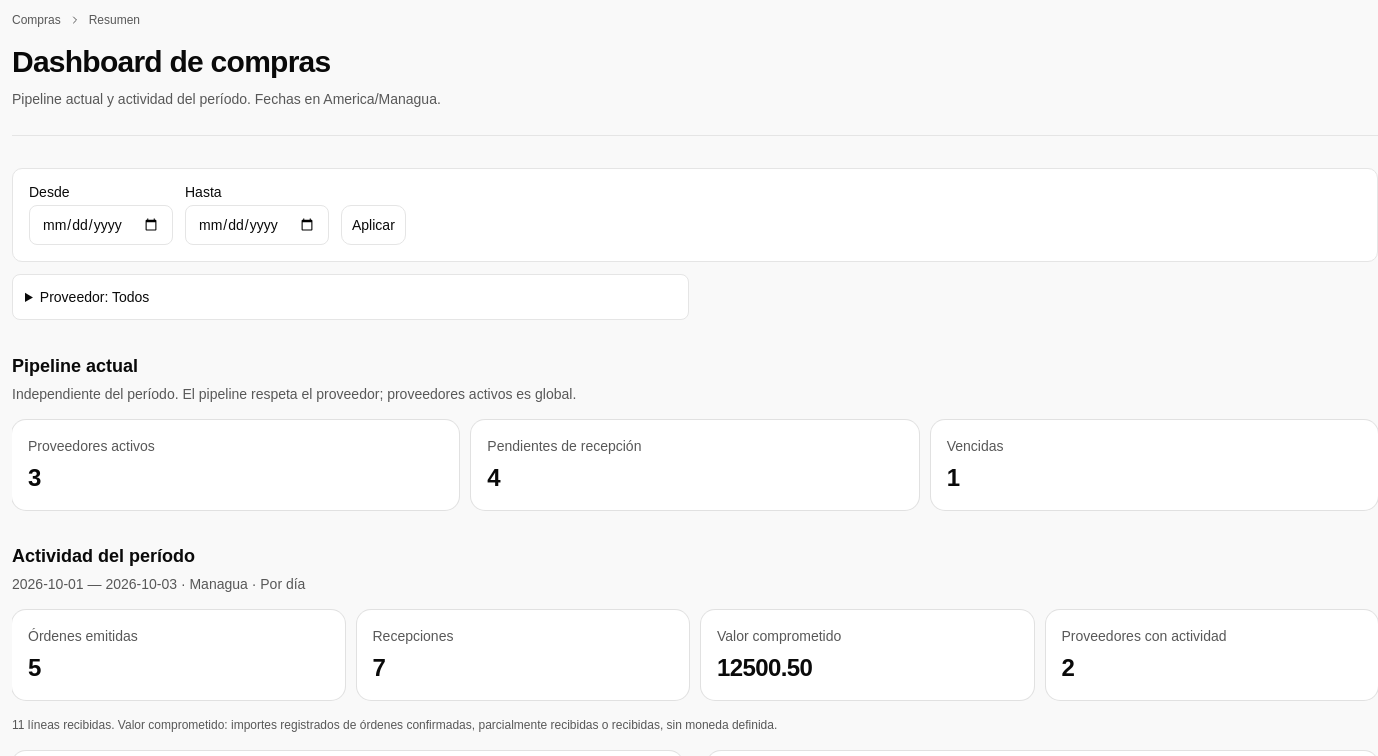
PurchasesDashboardPage › selects an inactive supplier for history and clears back to all suppliers
Expected: the text "Órdenes emitidas" is shown, [28, 628, 138, 644]
What coordinates should you click on to do the following:
click the heading "Proveedor: Todos"
I would click on:
 (95, 297)
Its box is [40, 289, 149, 305].
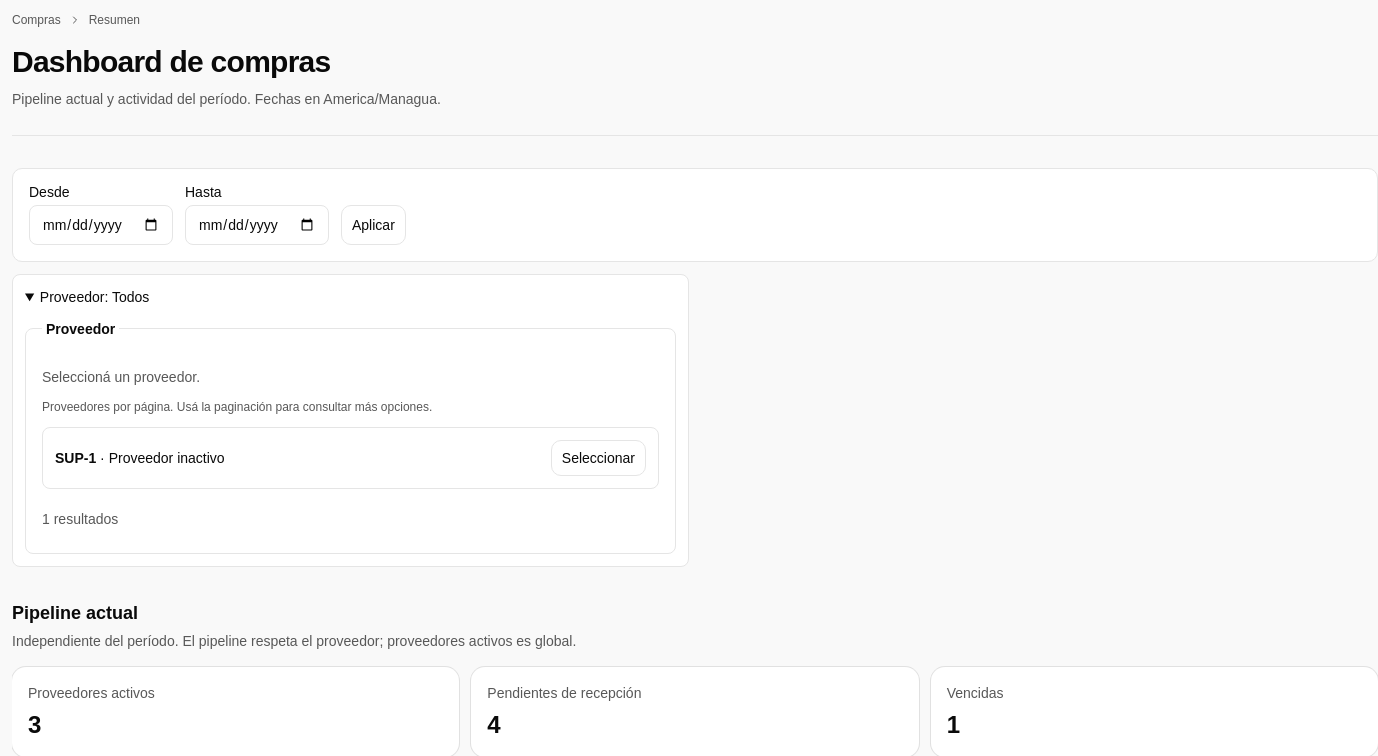
What coordinates should you click on to do the following:
click the button with aria-label "SUP-1 · Proveedor inactivo"
I would click on:
 (598, 458)
Its box is [551, 440, 646, 476].
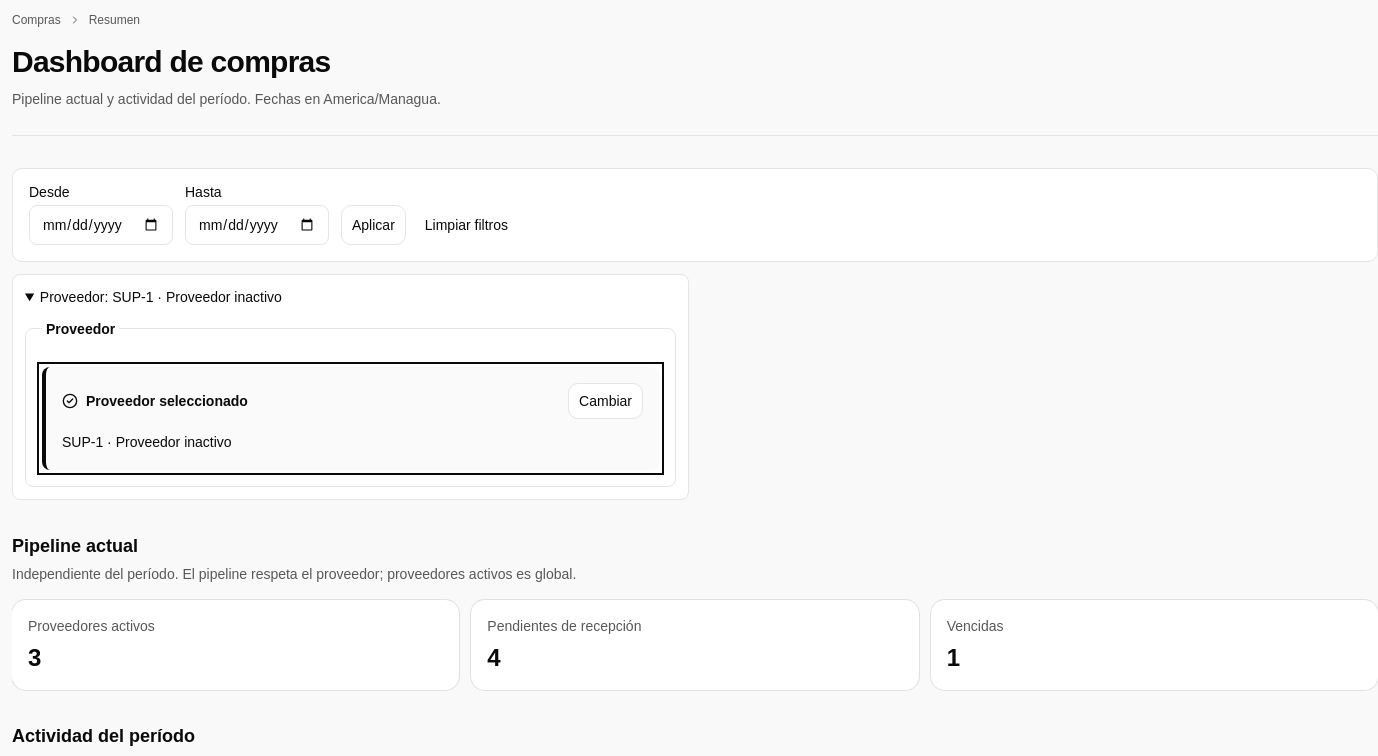
Result: the heading "Proveedor: SUP-1 · Proveedor inactivo" is shown at [40, 289, 282, 305]
What coordinates should you click on to do the following:
click the button "Limpiar filtros"
I would click on:
 (466, 225)
Its box is [414, 205, 519, 245].
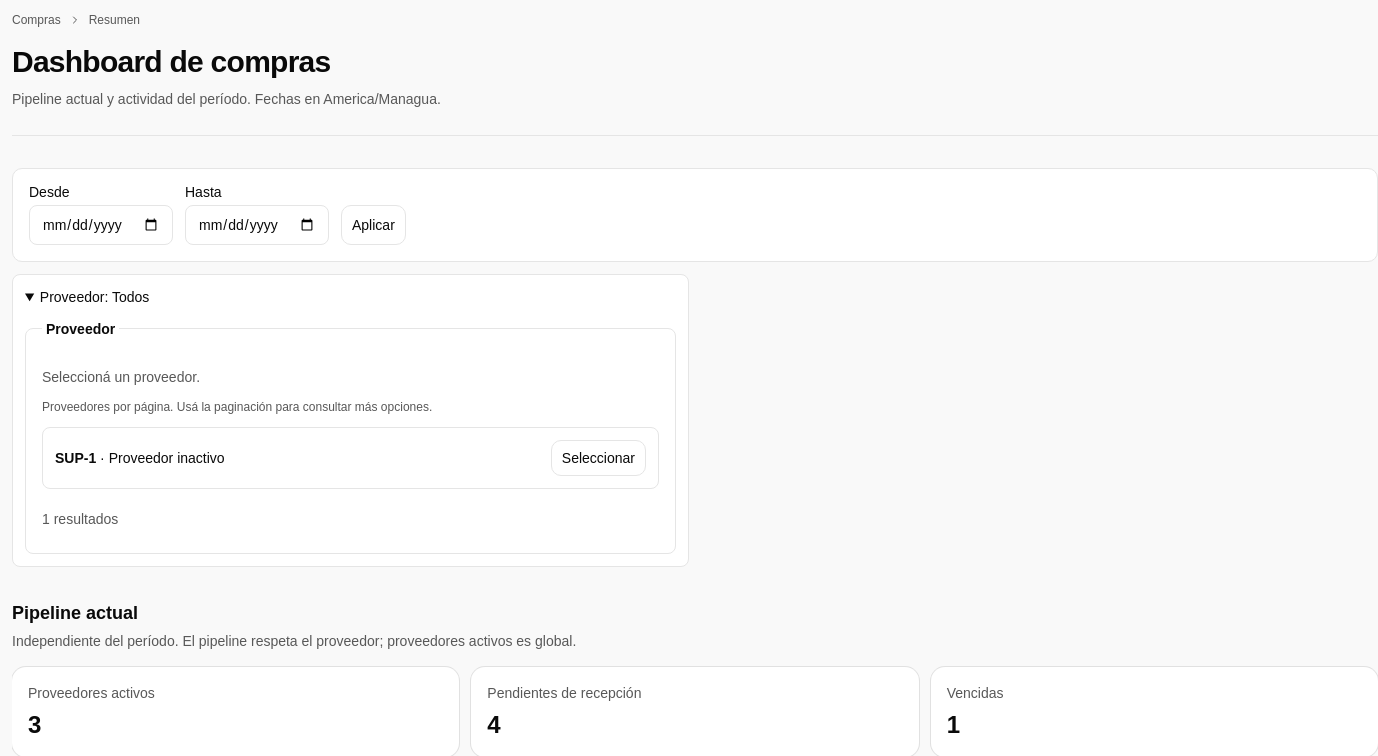
Result: the heading "Proveedor: Todos" is shown at [40, 289, 149, 305]
